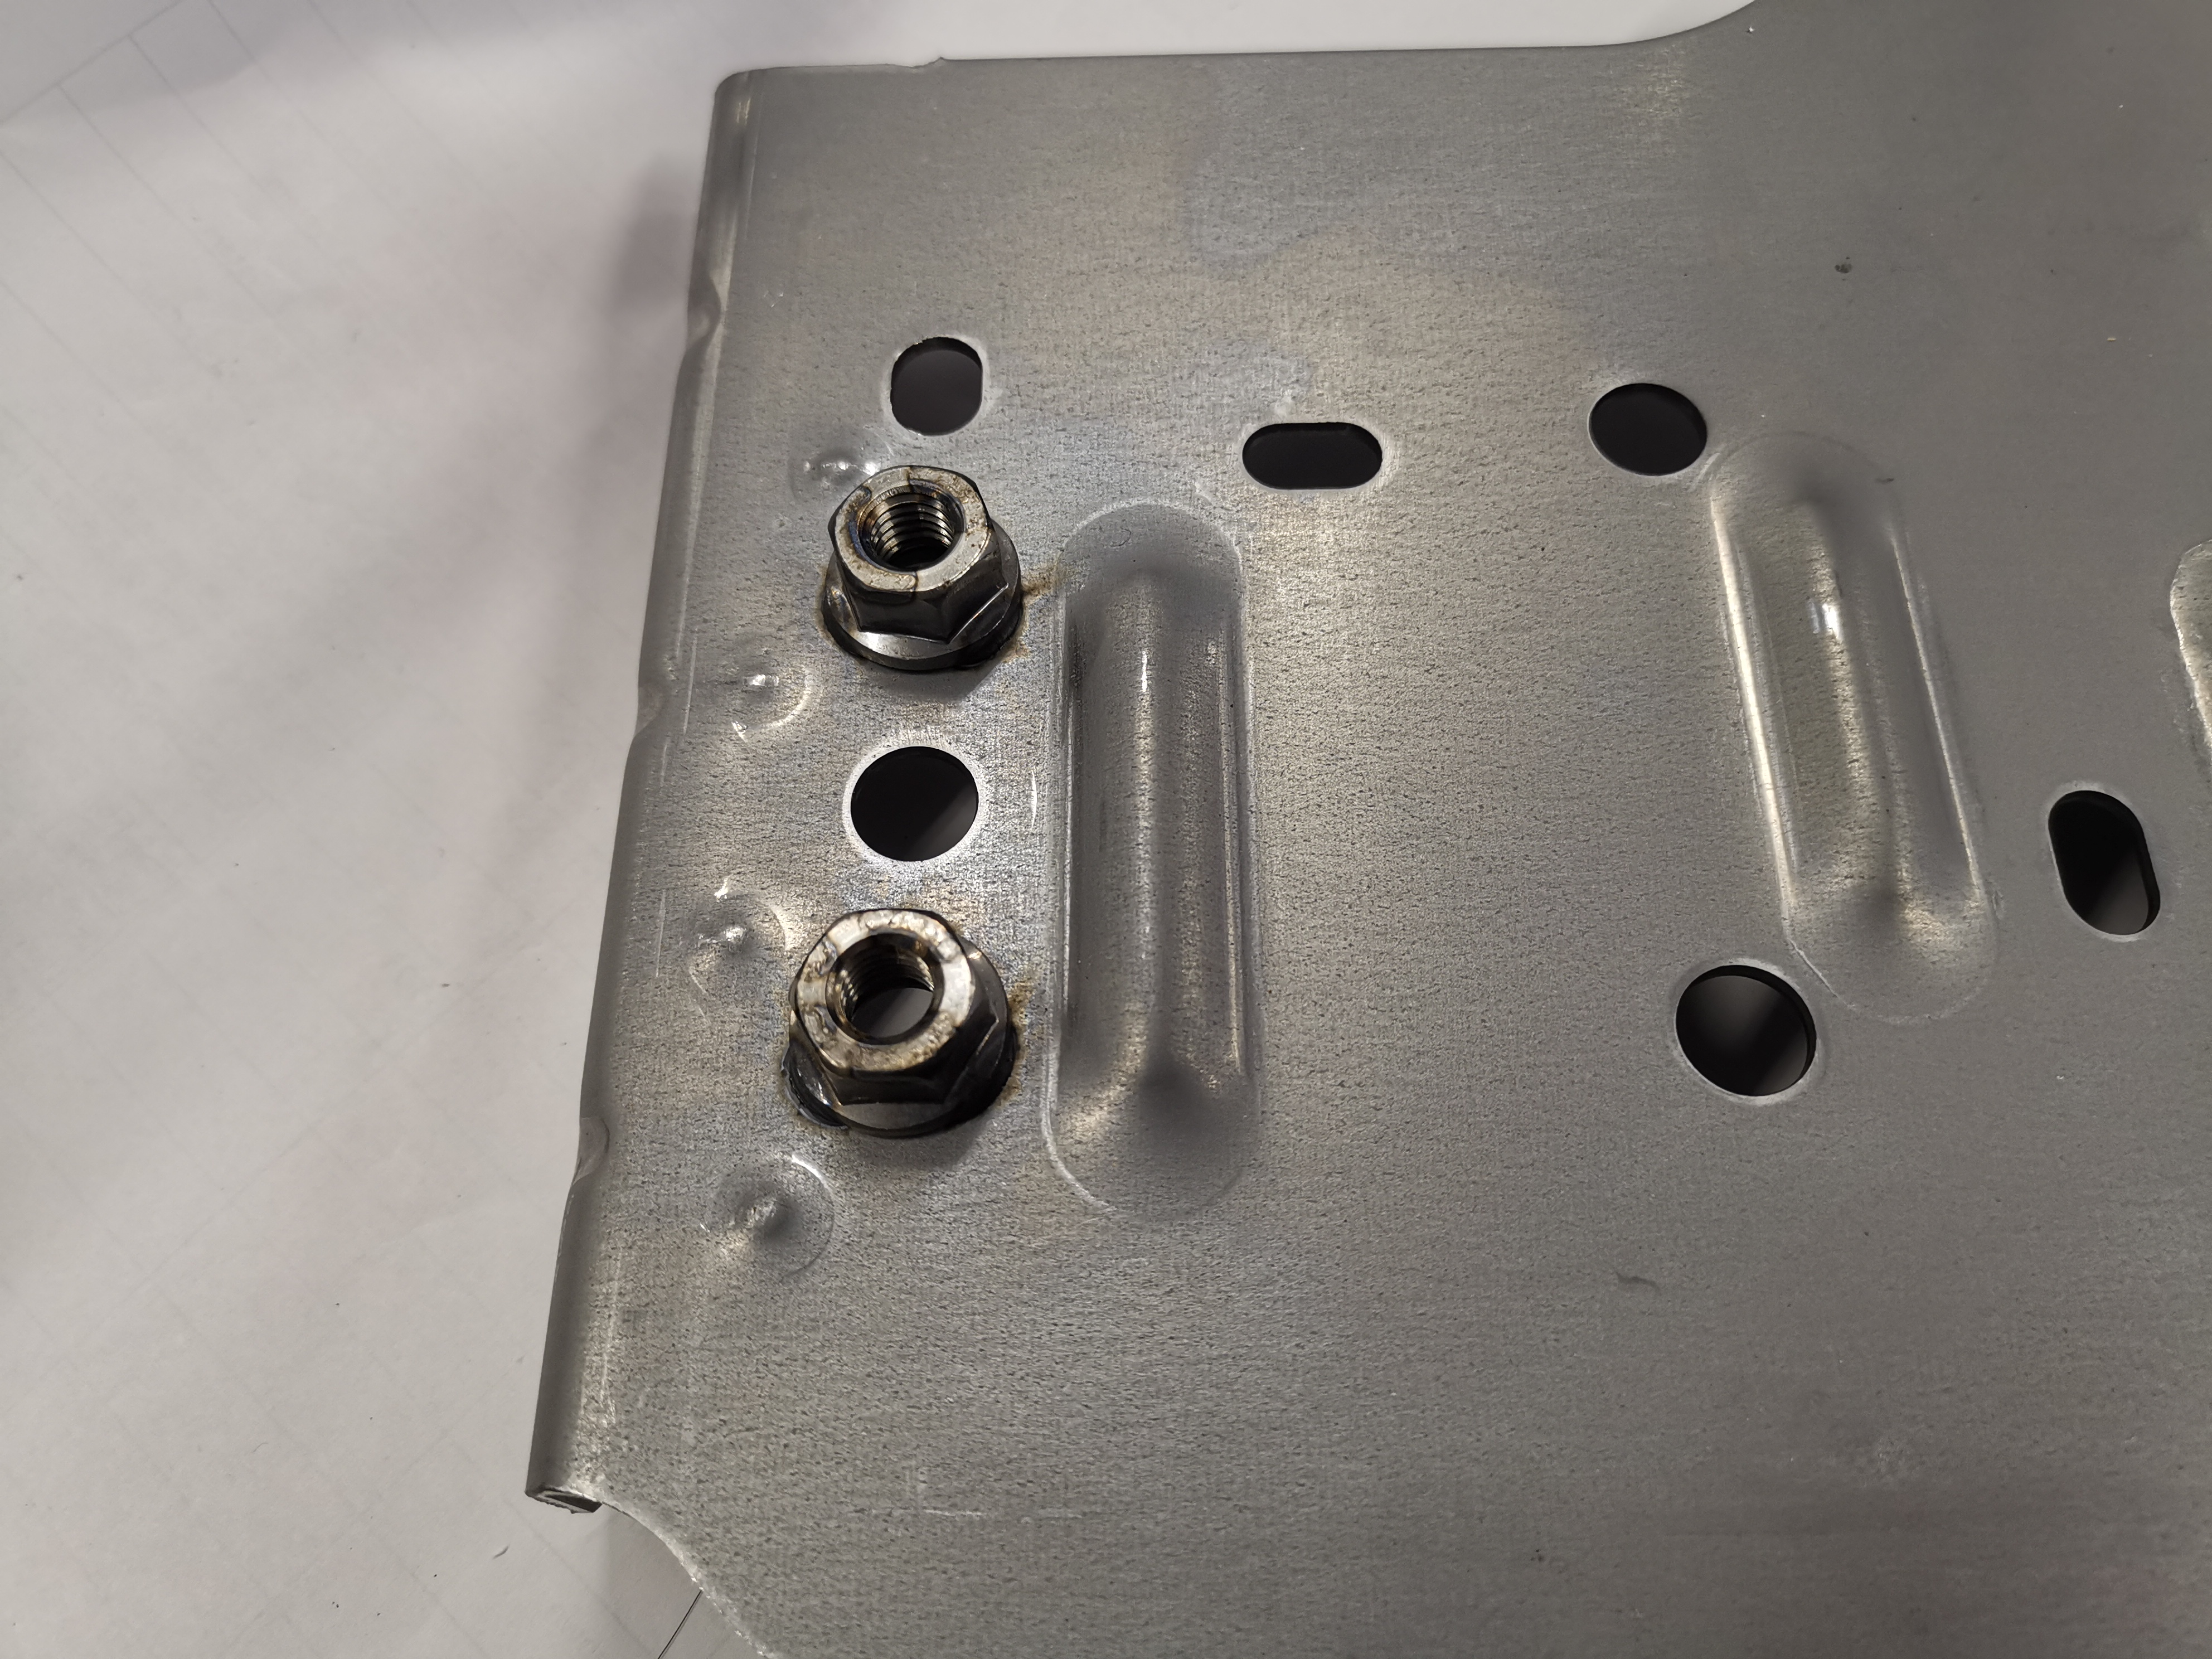dog: (777, 897, 1022, 1145), (808, 460, 1029, 678)
